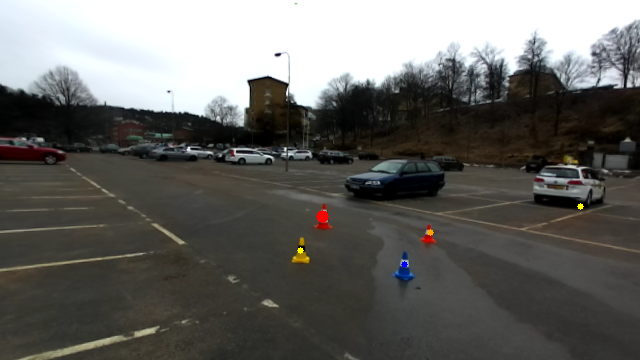blue: (391, 249, 416, 281)
orange2: (313, 203, 334, 231)
red: (421, 222, 437, 243)
yellow: (291, 234, 311, 266)
